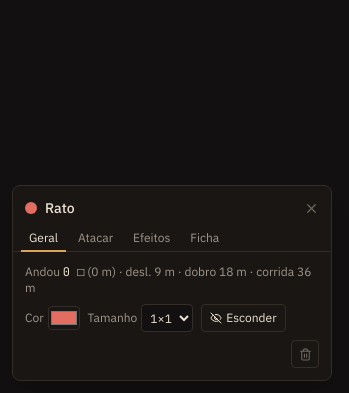
TokenPanel › ficha do NPC salva com ataque novo
Click the tab "Ficha" at (205, 239), box 182,226 -> 227,252
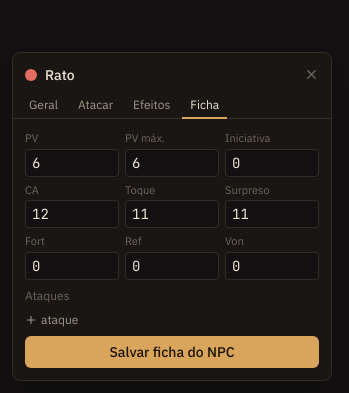
Replace the text in the number field labelled "CA" with "14" at (72, 214), box 25,200 -> 119,228
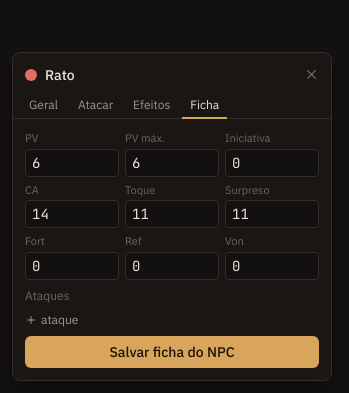
Click the button "ataque" at (52, 320), box 25,312 -> 78,328
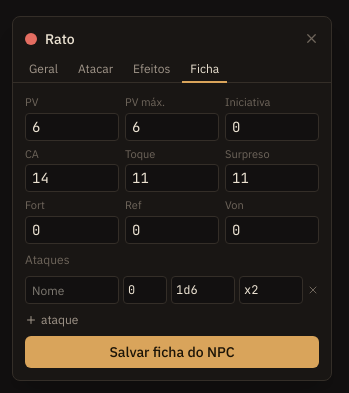
Type "Mordida" into the field named "Nome do ataque" at (72, 290), box 25,276 -> 119,304
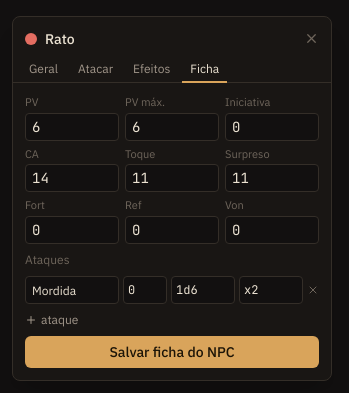
Click the button "Salvar ficha do NPC" at (172, 352), box 25,336 -> 319,368
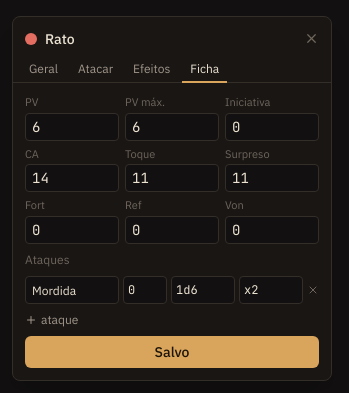
Check: the button "Salvo" is shown, box 25,336 -> 319,368
